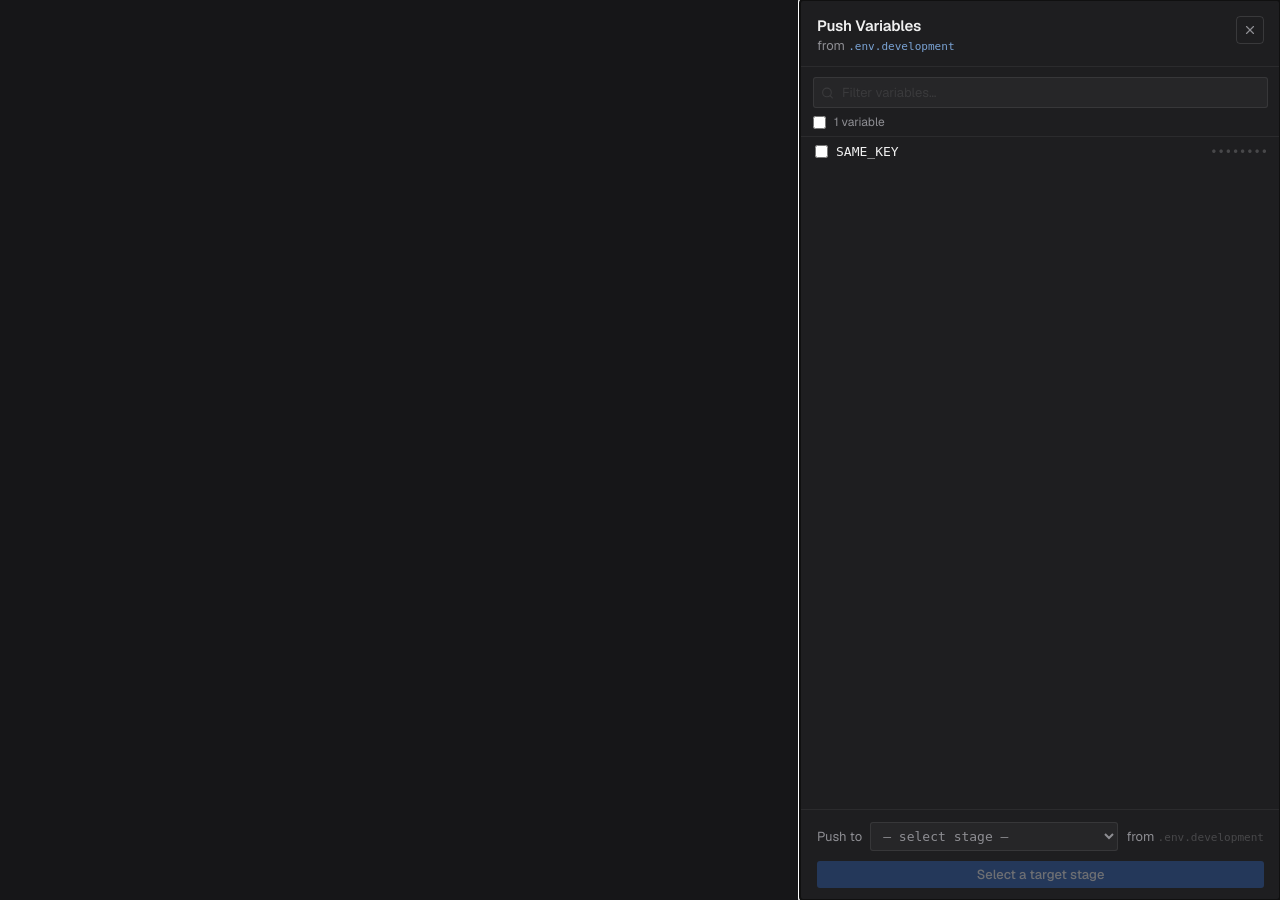
Test case: PushToStagePanel › Push action › shows "Nothing to push" text when all values are identical
Click the row "SAME_KEY ••••••••": coordinates (867, 152) [815,144,1268,159]
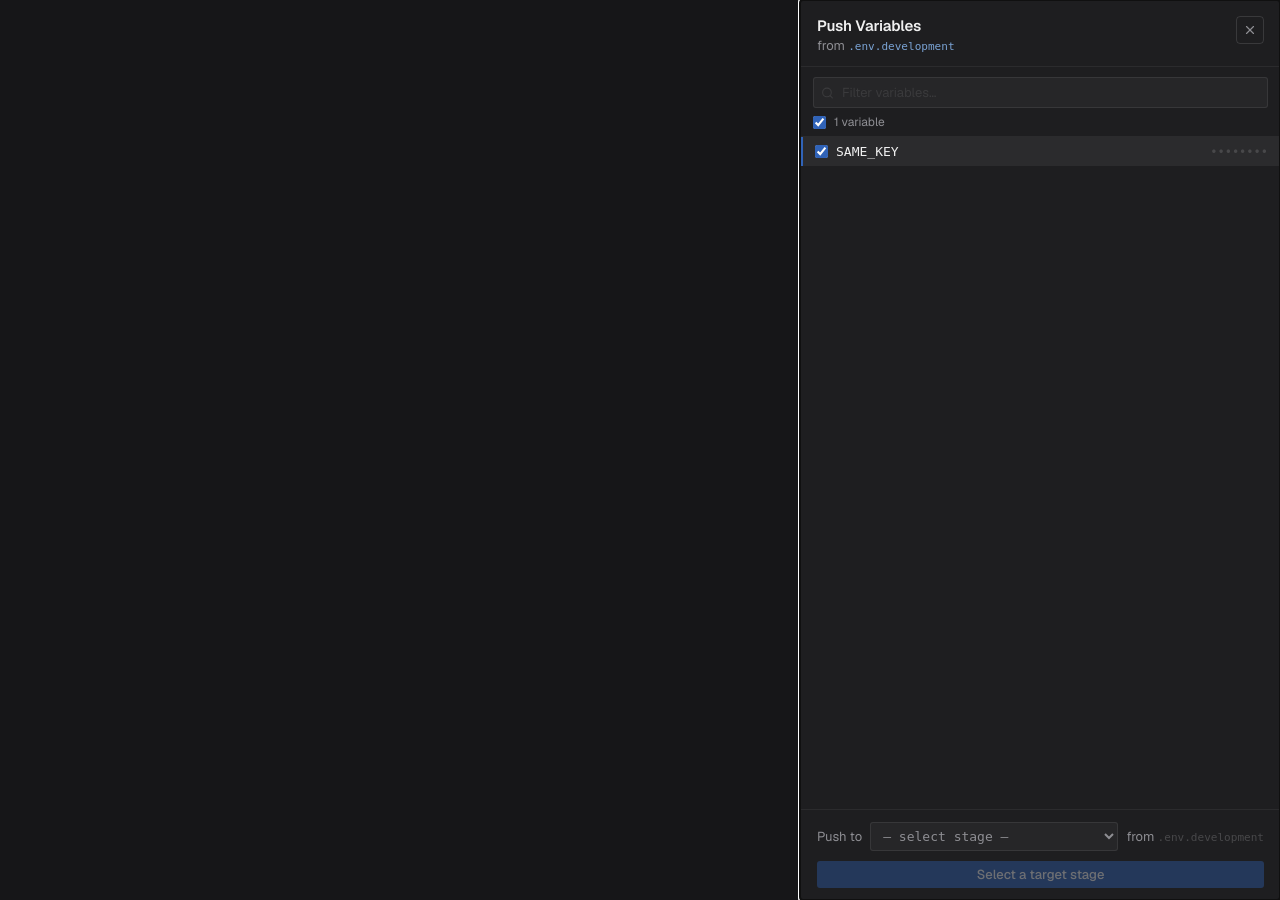
Select ".env.staging (empty)" in the dropdown with test id "stage-selector": coordinates (994, 836) [870,822,1118,851]
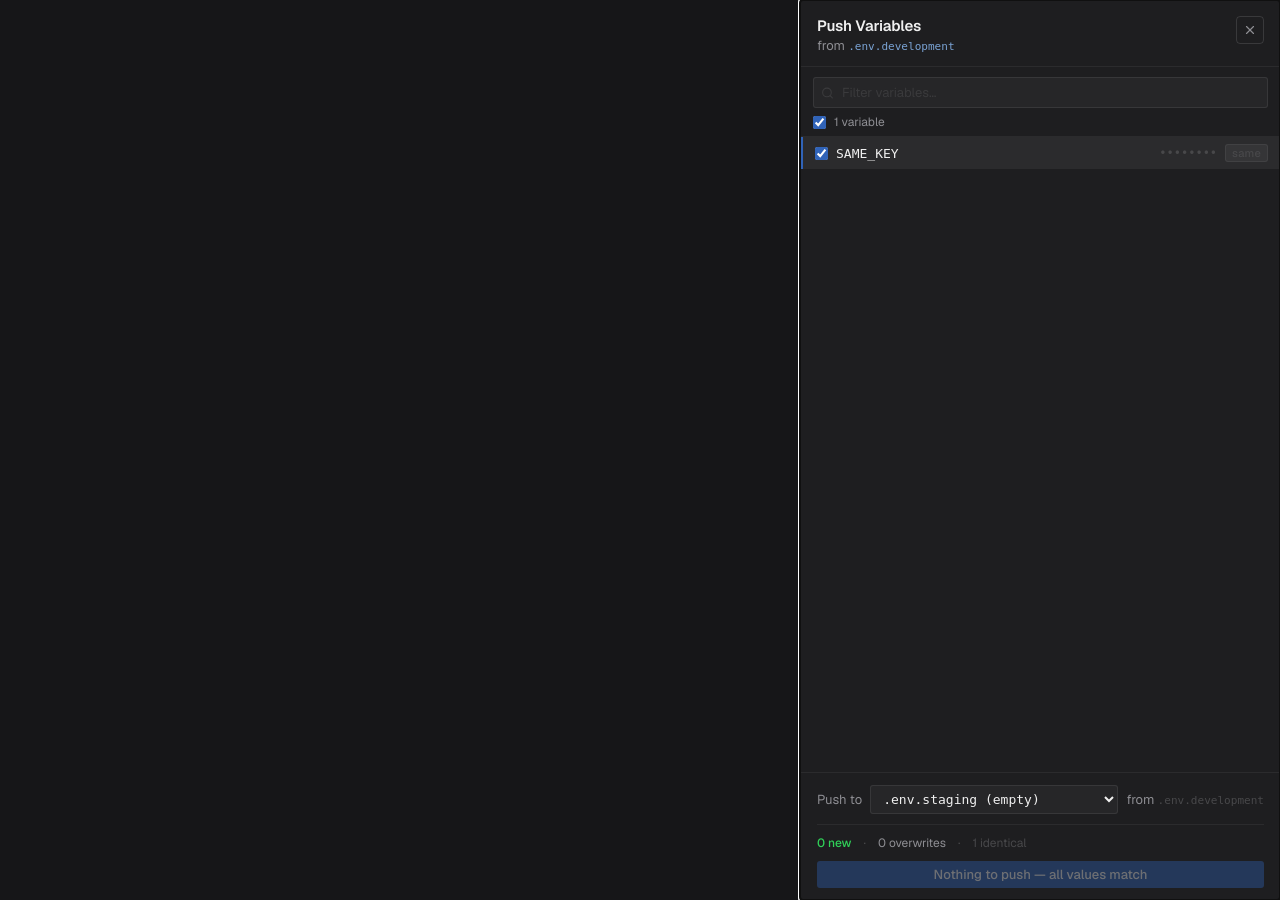
Check: the button with test id "push-cta-button" shows "Nothing to push", box [817,861,1264,888]
